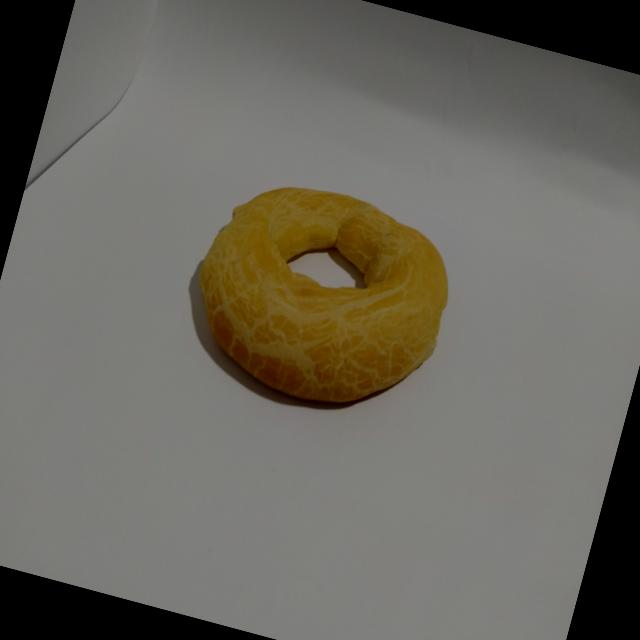Chipa: (162, 146, 478, 445)
